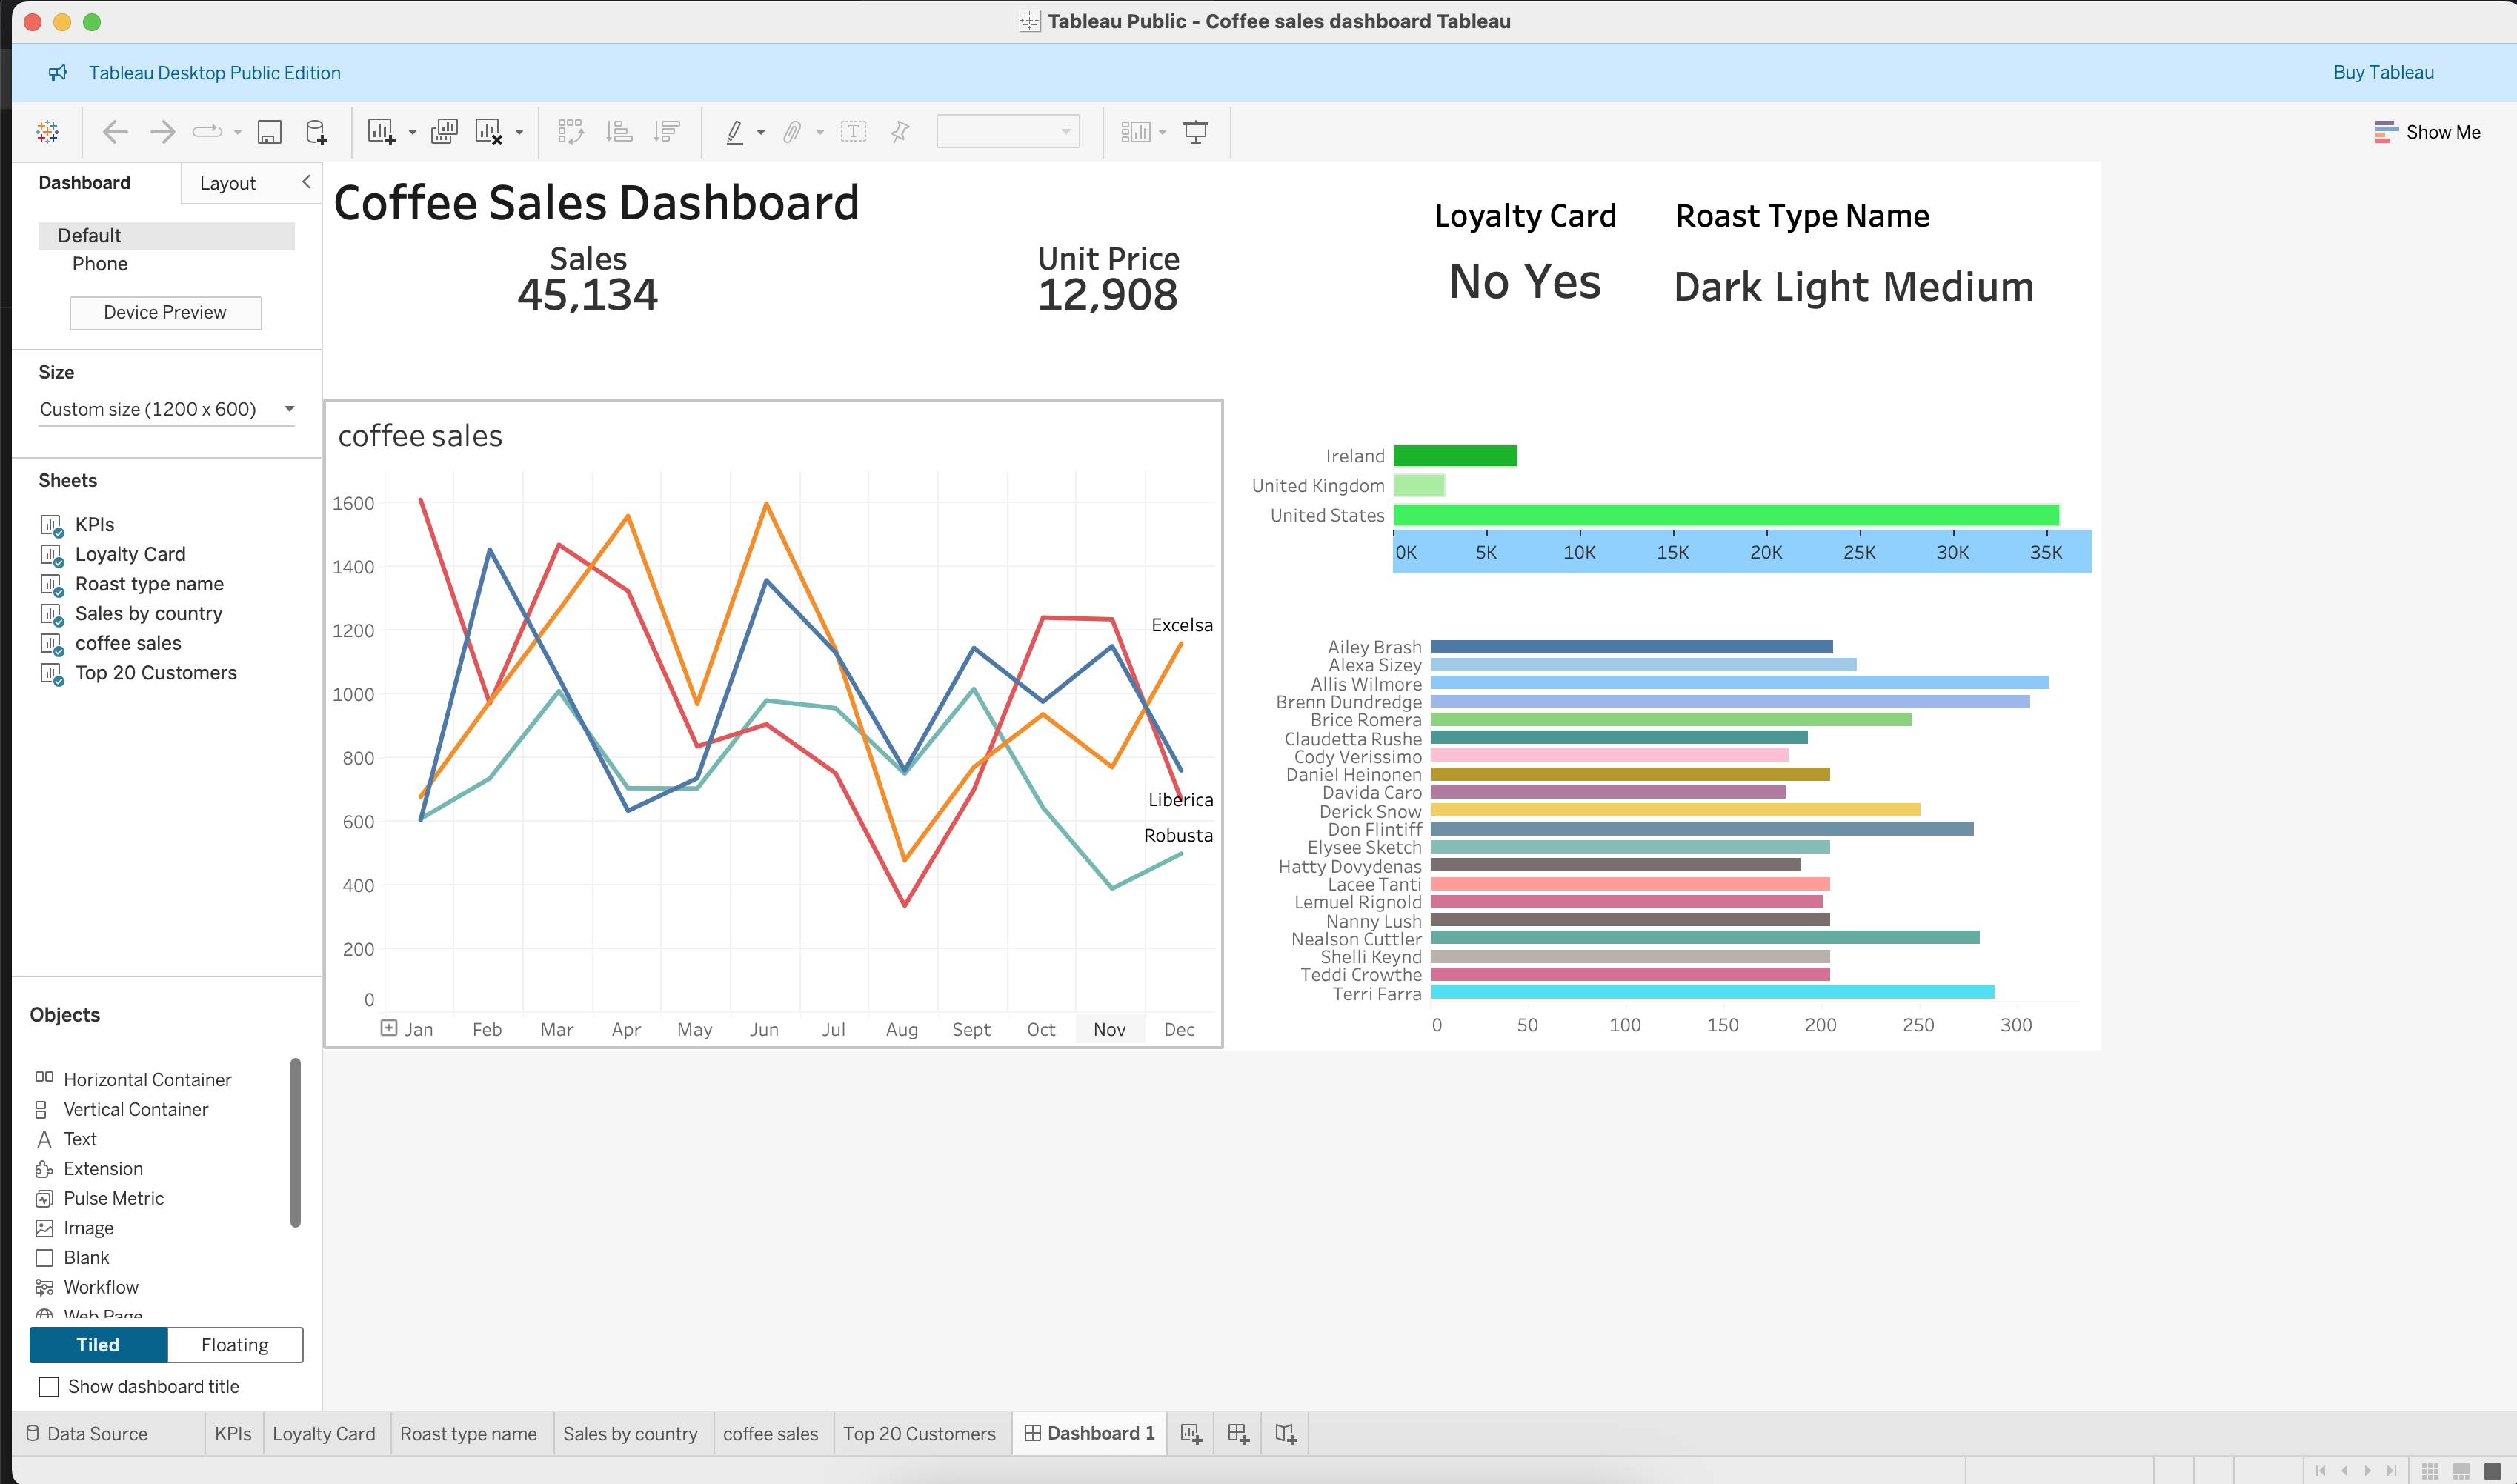

The dashboard page shown, as its layout file describes it:
{"tool":"tableau","page":{"name":"Dashboard 1","canvas":[1200,600],"ordinal":0},"visuals":[{"type":"text","box":[0,0,1200,52]},{"type":"text","box":[715,17,194,37]},{"type":"text","box":[906,17,194,37]},{"type":"worksheet","title":"Loyalty Card","mark":"Automatic","box":[748,50,130,65]},{"type":"worksheet","title":"KPIs","mark":"Automatic","box":[0,51,710,55]},{"type":"worksheet","title":"coffee sales","mark":"Automatic","rows":["Sales"],"cols":["Order Date"],"box":[2,162,604,437]},{"type":"worksheet","title":"Sales by country","mark":"Automatic","rows":["Country"],"cols":["Sales"],"box":[618,184,580,107]},{"type":"worksheet","title":"Top 20 Customers","mark":"Automatic","rows":["Customer Name"],"cols":["Sales"],"box":[623,317,567,283.9]}]}

Visuals, with their boxes on the page's 1200x600 design canvas (x1, y1, x2, y2). These are canvas units, not pixel positions in the 2517x1484 screenshot, which may show the page scaled, cropped or inside an application window:
text: bbox(0, 0, 1200, 52)
text: bbox(715, 17, 909, 54)
text: bbox(906, 17, 1100, 54)
"Loyalty Card" worksheet: bbox(748, 50, 878, 115)
"KPIs" worksheet: bbox(0, 51, 710, 106)
"coffee sales" worksheet: bbox(2, 162, 606, 599)
"Sales by country" worksheet: bbox(618, 184, 1198, 291)
"Top 20 Customers" worksheet: bbox(623, 317, 1190, 601)
